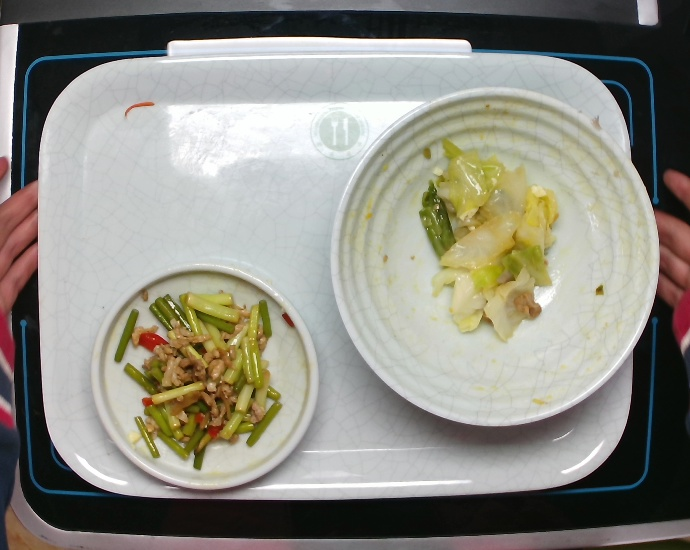JYsf-Da_Tang_Wan: (327, 84, 662, 430)
JYsf-Xiao_Yuan_Pan: (87, 260, 320, 493)
